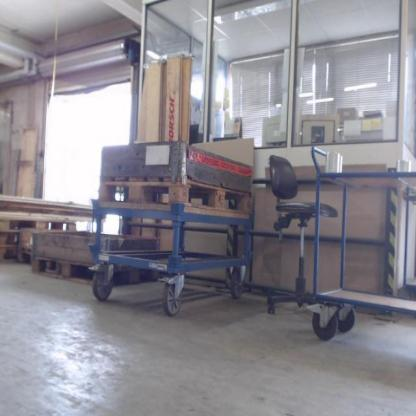pallet: (102, 175, 252, 222), (30, 257, 92, 286), (0, 214, 77, 235), (0, 245, 22, 260), (0, 232, 23, 246)
